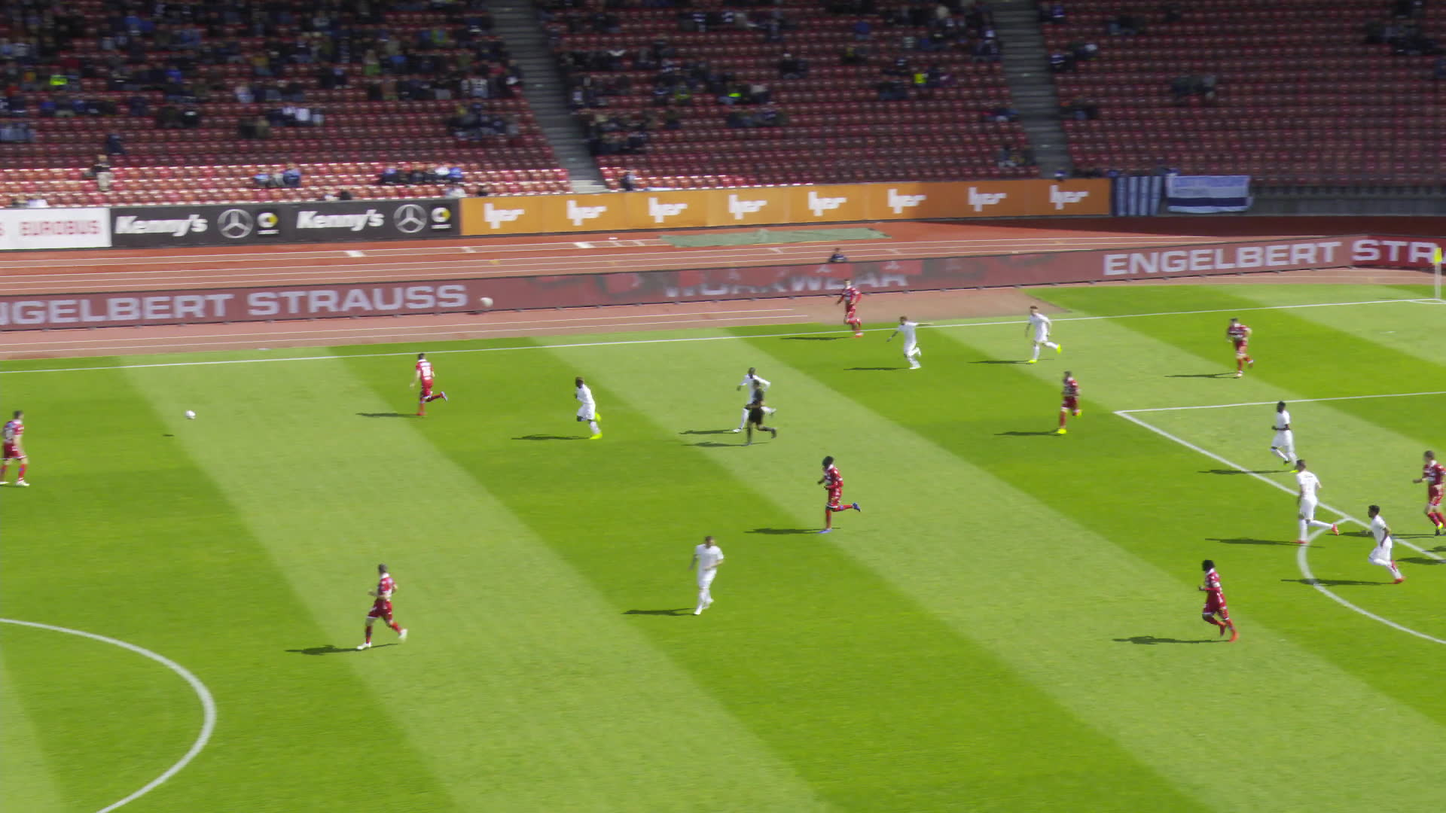ball: (184, 409, 197, 419)
player: (354, 562, 407, 650), (1357, 504, 1412, 586), (1290, 457, 1339, 544), (807, 454, 859, 533), (1192, 559, 1235, 643), (1411, 449, 1444, 538), (689, 537, 724, 615), (0, 408, 33, 489), (732, 367, 772, 432), (408, 352, 448, 416), (885, 314, 932, 367), (1020, 305, 1062, 363), (1268, 400, 1298, 473), (834, 278, 866, 339), (1055, 370, 1085, 435), (1226, 318, 1258, 376), (573, 376, 603, 437)
referee: (737, 378, 766, 449)
